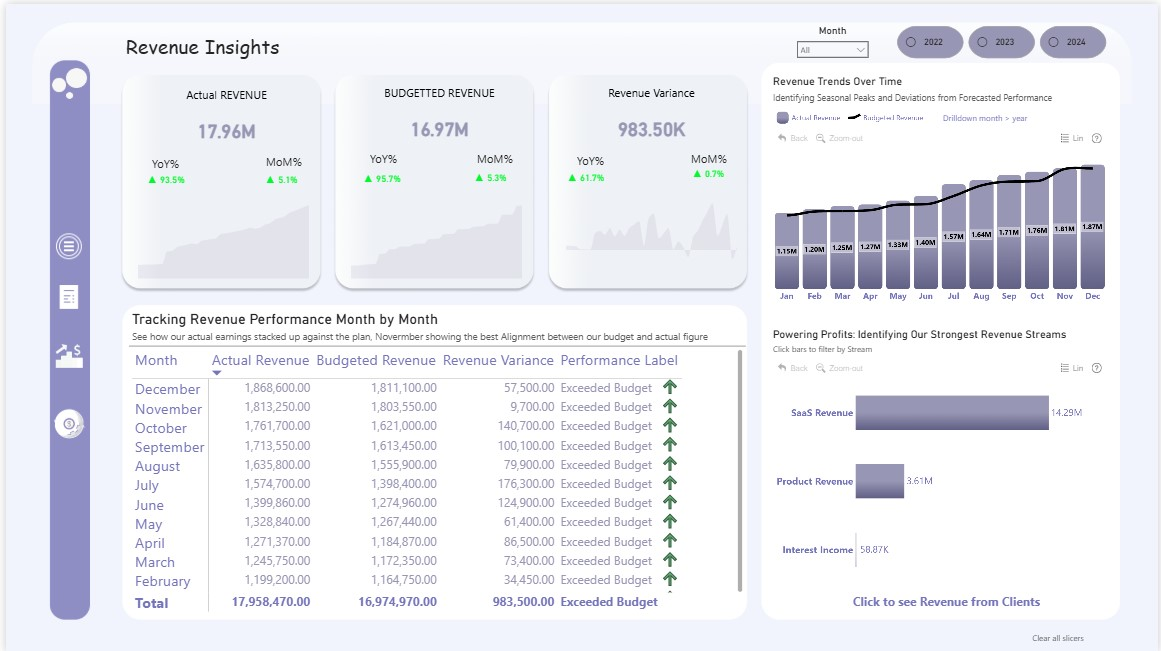

Layout of this report page (visuals, bound fields, positions):
{"tool":"powerbi","page":{"name":"Revenue Insight ","canvas":[1920,1080],"ordinal":2},"visuals":[{"type":"ZoomChartsDrillDownComboBarProE77E4ED357DC402ABA005987437CF8","title":"Powering Profits: Identifying Our Strongest Revenue Streams","fields":{"Category":["ActualsVsBudget.Account"],"Values1":["Matric.Actual Income"]},"box":[1274,540,566,432],"z":0},{"type":"cardVisual","fields":{"Data":["Matric.Actual REVENUE"]},"box":[209.3,118.7,315,131.1],"z":2000},{"type":"cardVisual","fields":{"Data":["Matric.BUDGETTED REVENUE"]},"box":[565,115,315,131],"z":3000},{"type":"cardVisual","fields":{"Data":["Matric.Revenue Variance"]},"box":[918.3,115,315,131.7],"z":4000},{"type":"pivotTable","title":"Tracking Revenue Performance Month by Month","fields":{"Rows":["DateTable.Month"],"Values":["Matric.Actual REVENUE","Matric.BUDGETTED REVENUE","Matric.Revenue Variance","Matric.Revenue Performance Label"]},"box":[205,511.7,1028.3,505],"z":5000},{"type":"ZoomChartsFacetChartPaidE77E4ED357DC402ABA005987437CF500","title":"Revenue Trends Over Time","fields":{"Category":["DateTable.Month Short","DateTable.Date.Variation.Date Hierarchy.Year"],"Values1":["Matric.Actual REVENUE"],"Values2":["Matric.BUDGETTED REVENUE"]},"box":[1274,118,566,404],"z":6000},{"type":"lineChart","fields":{"Y":["Matric.Actual REVENUE"],"Category":["DateTable.Date.Variation.Date Hierarchy.Year","DateTable.Date.Variation.Date Hierarchy.Month"]},"box":[205,301.7,315,161.7],"z":7000},{"type":"advancedSlicerVisual","fields":{"Values":["DateTable.Date.Variation.Date Hierarchy.Year"]},"box":[1480,32,360,64],"z":8000},{"type":"slicer","title":"Month","fields":{"Values":["DateTable.Date.Variation.Date Hierarchy.Month"]},"box":[1308.8,32.5,138.8,56.2],"z":9000},{"type":"lineChart","fields":{"Category":["DateTable.Date.Variation.Date Hierarchy.Year","DateTable.Date.Variation.Date Hierarchy.Month"],"Y":["Matric.Revenue Variance"]},"box":[918.3,301.7,315,161.7],"z":10000},{"type":"lineChart","fields":{"Category":["DateTable.Date.Variation.Date Hierarchy.Year","DateTable.Date.Variation.Date Hierarchy.Month"],"Y":["Matric.BUDGETTED REVENUE"]},"box":[560,301.7,315,161.7],"z":11000},{"type":"cardVisual","fields":{"Data":["Matric.Actual Revenue Yoy Indicator"]},"box":[218.9,213.3,106.7,150],"z":12000},{"type":"cardVisual","fields":{"Data":["Matric.Actual Revenue Mom Indicator"]},"box":[414.4,213.3,131.1,150],"z":13000},{"type":"cardVisual","fields":{"Data":["Matric.Budegtted Revenue Mom Indicator"]},"box":[763.3,233.3,132.2,105.6],"z":14000},{"type":"cardVisual","fields":{"Data":["Matric.Budegtted Revenue yoy Indicator"]},"box":[578.9,217.8,128.9,138.9],"z":15000},{"type":"cardVisual","fields":{"Data":["Matric.Revenue Variance Mom Indicator"]},"box":[1126.7,213.3,128.9,131.1],"z":16000},{"type":"cardVisual","fields":{"Data":["Matric.Revenue Variance Yoy Indicator"]},"box":[918.9,222.2,142.2,127.8],"z":17000},{"type":"textbox","box":[428,244.6,85.1,48],"z":18000},{"type":"textbox","box":[946.4,244.1,68,48],"z":19000},{"type":"textbox","box":[237.8,247.8,68.9,47.8],"z":20000},{"type":"textbox","box":[780.7,240.1,78.9,48],"z":21000},{"type":"textbox","box":[601.3,240.1,68,48],"z":22000},{"type":"textbox","box":[1136.2,240.1,80.6,48],"z":23000},{"type":"textbox","box":[1556.7,176.7,283.3,36.7],"z":24000},{"type":"actionButton","box":[1346.7,973.3,441.7,43.3],"z":25000},{"type":"image","box":[78.3,461.7,53.3,53.3],"z":27000},{"type":"image","box":[73.3,368.3,63.3,70],"z":28000},{"type":"image","box":[74,540,64,92],"z":29000},{"type":"image","box":[74,636,64,126],"z":30000},{"type":"actionButton","box":[1653.3,1030,200,50],"z":30001},{"type":"textbox","box":[195,43.3,303.3,75],"z":30002}]}

Visuals, with their boxes in screenshot pixels (x1, y1, x2, y2), scaled from the page's 1920x1080 canvas onto the 1161x651 screenshot:
"Powering Profits: Identifying Our Strongest Revenue Streams" ZoomChartsDrillDownComboBarProE77E4ED357DC402ABA005987437CF8: {"left": 770, "top": 326, "right": 1113, "bottom": 586}
cardVisual - Matric.Actual REVENUE: {"left": 127, "top": 72, "right": 317, "bottom": 151}
cardVisual - Matric.BUDGETTED REVENUE: {"left": 342, "top": 69, "right": 532, "bottom": 148}
cardVisual - Matric.Revenue Variance: {"left": 555, "top": 69, "right": 746, "bottom": 149}
"Tracking Revenue Performance Month by Month" pivotTable: {"left": 124, "top": 308, "right": 746, "bottom": 613}
"Revenue Trends Over Time" ZoomChartsFacetChartPaidE77E4ED357DC402ABA005987437CF500: {"left": 770, "top": 71, "right": 1113, "bottom": 315}
lineChart - Matric.Actual REVENUE x DateTable.Date.Variation.Date Hierarchy.Year: {"left": 124, "top": 182, "right": 314, "bottom": 279}
advancedSlicerVisual - DateTable.Date.Variation.Date Hierarchy.Year: {"left": 895, "top": 19, "right": 1113, "bottom": 58}
"Month" slicer: {"left": 791, "top": 20, "right": 875, "bottom": 53}
lineChart - DateTable.Date.Variation.Date Hierarchy.Year x DateTable.Date.Variation.Date Hierarchy.Month: {"left": 555, "top": 182, "right": 746, "bottom": 279}
lineChart - DateTable.Date.Variation.Date Hierarchy.Year x DateTable.Date.Variation.Date Hierarchy.Month: {"left": 339, "top": 182, "right": 529, "bottom": 279}
cardVisual - Matric.Actual Revenue Yoy Indicator: {"left": 132, "top": 129, "right": 197, "bottom": 219}
cardVisual - Matric.Actual Revenue Mom Indicator: {"left": 251, "top": 129, "right": 330, "bottom": 219}
cardVisual - Matric.Budegtted Revenue Mom Indicator: {"left": 462, "top": 141, "right": 541, "bottom": 204}
cardVisual - Matric.Budegtted Revenue yoy Indicator: {"left": 350, "top": 131, "right": 428, "bottom": 215}
cardVisual - Matric.Revenue Variance Mom Indicator: {"left": 681, "top": 129, "right": 759, "bottom": 208}
cardVisual - Matric.Revenue Variance Yoy Indicator: {"left": 556, "top": 134, "right": 642, "bottom": 211}
textbox: {"left": 259, "top": 147, "right": 310, "bottom": 176}
textbox: {"left": 572, "top": 147, "right": 613, "bottom": 176}
textbox: {"left": 144, "top": 149, "right": 185, "bottom": 178}
textbox: {"left": 472, "top": 145, "right": 520, "bottom": 174}
textbox: {"left": 364, "top": 145, "right": 405, "bottom": 174}
textbox: {"left": 687, "top": 145, "right": 736, "bottom": 174}
textbox: {"left": 941, "top": 107, "right": 1113, "bottom": 129}
actionButton: {"left": 814, "top": 587, "right": 1081, "bottom": 613}
image: {"left": 47, "top": 278, "right": 80, "bottom": 310}
image: {"left": 44, "top": 222, "right": 83, "bottom": 264}
image: {"left": 45, "top": 326, "right": 83, "bottom": 381}
image: {"left": 45, "top": 383, "right": 83, "bottom": 459}
actionButton: {"left": 1000, "top": 621, "right": 1121, "bottom": 650}
textbox: {"left": 118, "top": 26, "right": 301, "bottom": 71}
